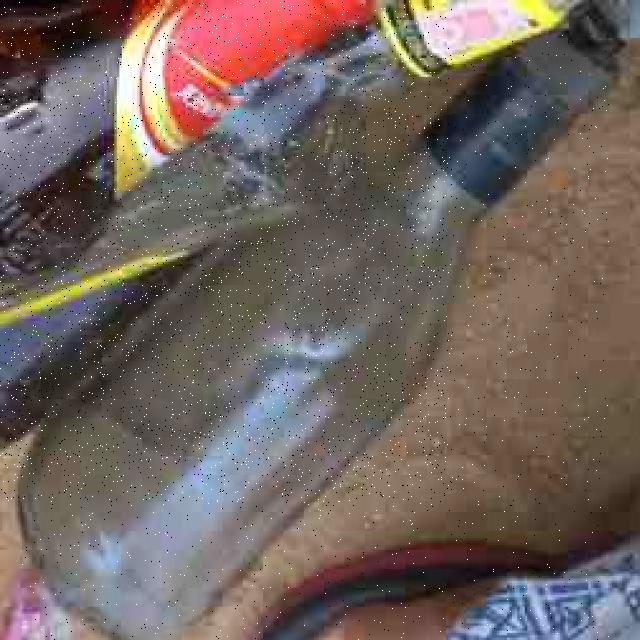glass: (23, 35, 609, 640), (0, 1, 452, 502)
